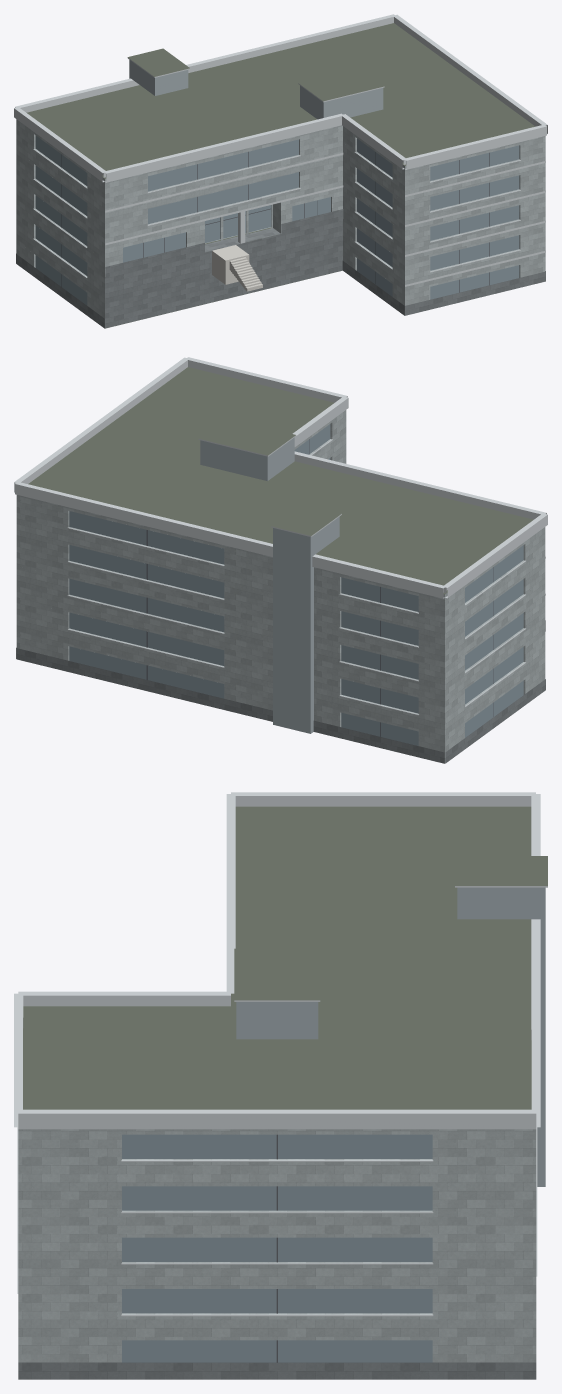
3 views of the same model, one above another, from view 1: azimuth 30°, elevation 25°; view 2: azimuth 150°, elevation 25°; view 3: azimuth 270°, elevation 25° (orthographic). The views are drawn at different scales.
Visible parts, largest first — view 1: b142__wall, b142__roof, b142__glass, b142__trim, b142__base, b142__wall2, b142__entranceStair, b142__frame; view 2: b142__wall, b142__roof, b142__glass, b142__trim, b142__wall2, b142__base; view 3: b142__roof, b142__wall, b142__glass, b142__trim, b142__base, b142__wall2.
Boxes of the visible parts, box(x1,y1,x2,y2) form: b142__wall: box(16, 119, 545, 327); b142__roof: box(26, 23, 534, 328); b142__glass: box(35, 135, 519, 305); b142__trim: box(14, 14, 547, 286); b142__base: box(16, 209, 545, 328); b142__wall2: box(129, 60, 383, 119); b142__entranceStair: box(212, 245, 262, 291); b142__frame: box(61, 151, 489, 292); b142__wall: box(16, 410, 545, 763); b142__roof: box(28, 367, 533, 594); b142__glass: box(69, 424, 523, 745); b142__trim: box(14, 357, 547, 715); b142__wall2: box(200, 437, 339, 733); b142__base: box(16, 620, 545, 763); b142__roof: box(23, 806, 547, 1109); b142__wall: box(18, 1129, 536, 1362); b142__glass: box(122, 1134, 432, 1362); b142__trim: box(14, 792, 547, 1316); b142__base: box(18, 1362, 536, 1379); b142__wall2: box(236, 887, 545, 1186).
Size of the model in its own units: 48.26 by 21.17 by 33.88.
Materials: 10 (2 with a texture image).
